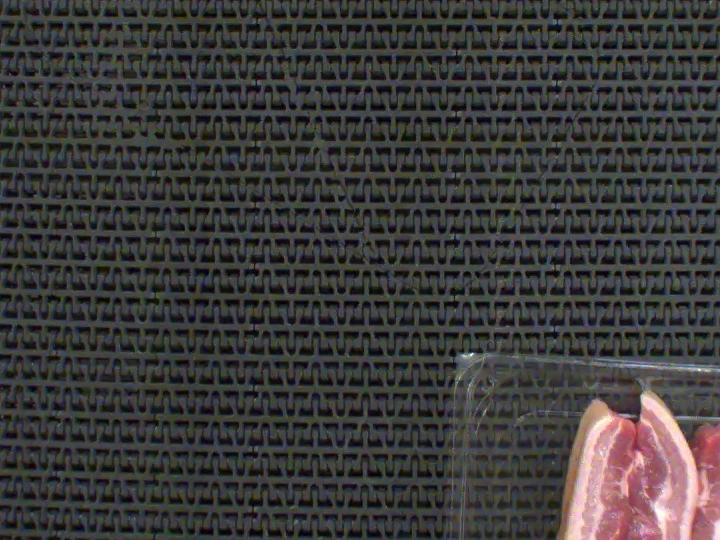packaging-error: (632, 371, 667, 401)
